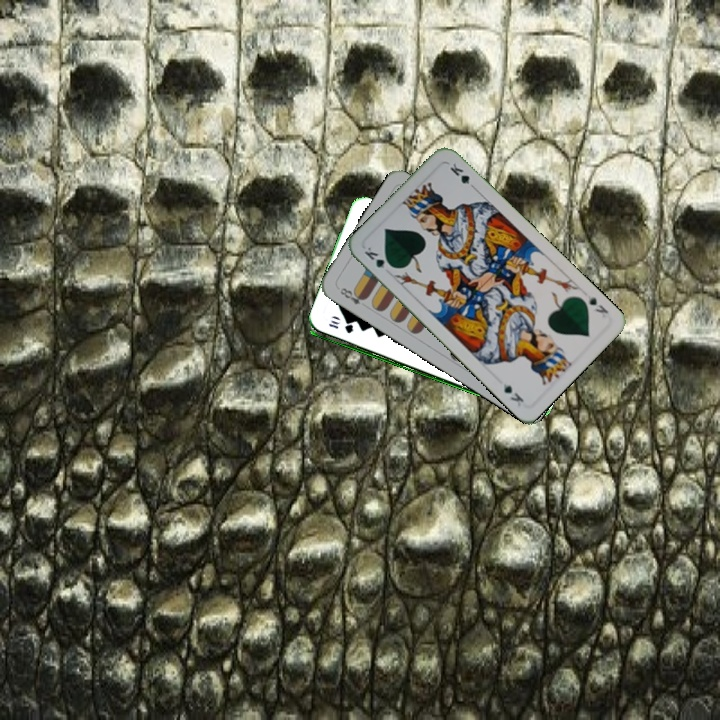E8: (336, 283, 369, 307)
G10: (325, 316, 356, 336)
GK: (360, 243, 396, 271), (583, 291, 611, 320)
